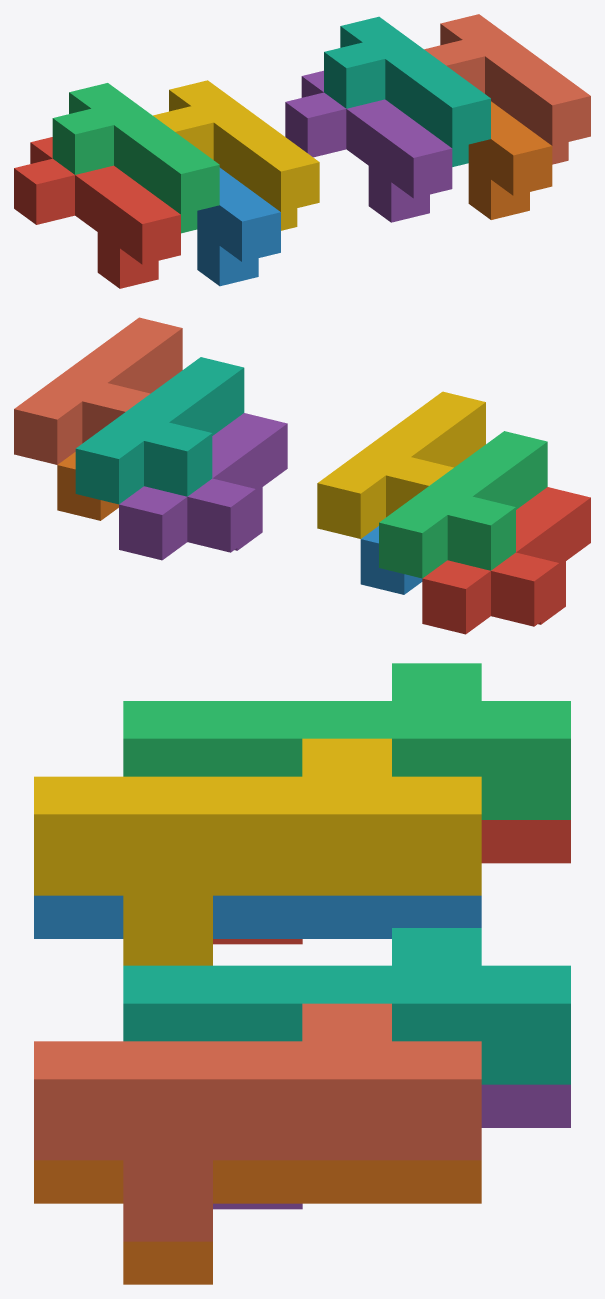
Rendered from tiling.obj.
3 renders of one model, top to bottom at view 1: azimuth 30°, elevation 25°; view 2: azimuth 150°, elevation 25°; view 3: azimuth 270°, elevation 25°, orthographic. The views are drawn at different scales.
Visible parts, largest first — view 1: copy_1_domain_1, copy_1_domain_5, copy_1_domain_3, copy_1_domain_7, copy_1_domain_4, copy_1_domain_8, copy_1_domain_6, copy_1_domain_2; view 2: copy_1_domain_7, copy_1_domain_3, copy_1_domain_5, copy_1_domain_1, copy_1_domain_8, copy_1_domain_4, copy_1_domain_2, copy_1_domain_6; view 3: copy_1_domain_8, copy_1_domain_4, copy_1_domain_7, copy_1_domain_3, copy_1_domain_6, copy_1_domain_2, copy_1_domain_5, copy_1_domain_1.
Part boxes in pixels (<box>): copy_1_domain_1: <box>14,137,180,288</box>; copy_1_domain_5: <box>285,70,452,222</box>; copy_1_domain_3: <box>52,83,219,233</box>; copy_1_domain_7: <box>324,16,490,166</box>; copy_1_domain_4: <box>153,80,319,230</box>; copy_1_domain_8: <box>424,14,590,164</box>; copy_1_domain_6: <box>468,101,552,219</box>; copy_1_domain_2: <box>197,167,280,286</box>; copy_1_domain_7: <box>75,357,244,504</box>; copy_1_domain_3: <box>379,431,547,578</box>; copy_1_domain_5: <box>119,413,287,560</box>; copy_1_domain_1: <box>422,487,590,634</box>; copy_1_domain_8: <box>14,317,182,464</box>; copy_1_domain_4: <box>317,391,485,538</box>; copy_1_domain_2: <box>360,526,422,594</box>; copy_1_domain_6: <box>57,452,118,520</box>; copy_1_domain_8: <box>34,1003,481,1241</box>; copy_1_domain_4: <box>34,738,481,965</box>; copy_1_domain_7: <box>123,928,570,1084</box>; copy_1_domain_3: <box>123,663,570,819</box>; copy_1_domain_6: <box>34,1160,481,1284</box>; copy_1_domain_2: <box>34,895,481,938</box>; copy_1_domain_5: <box>213,1084,570,1209</box>; copy_1_domain_1: <box>213,820,570,944</box>.
Bounding box in the file's own units: 12 × 3 × 6.
